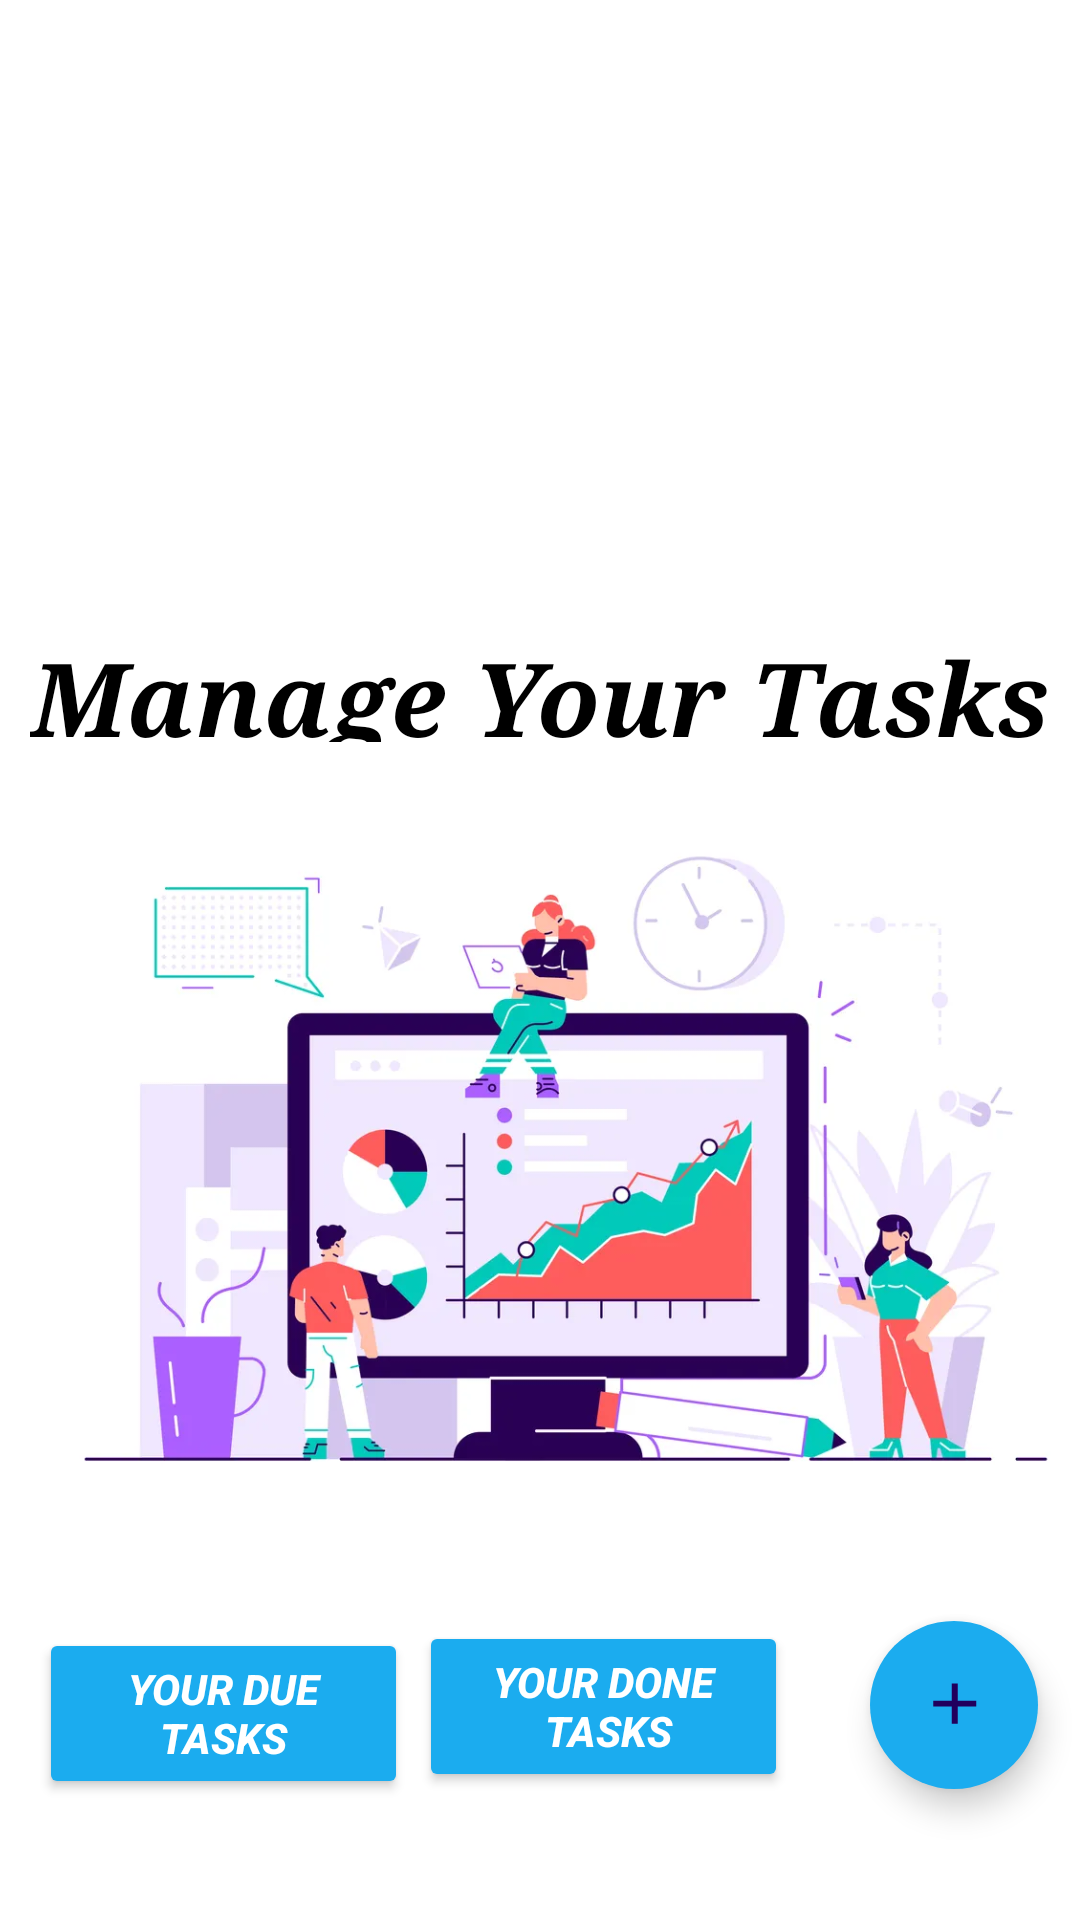

Icons on this 1080px×1920px Android screen, each with the point to tap as (x=x, y=y):
add: (x=954, y=1705)
